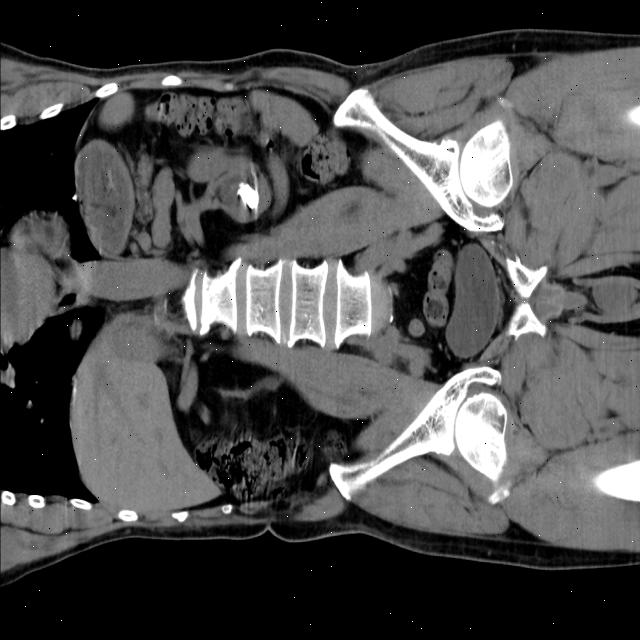kidneystone: (238, 181, 259, 209)
